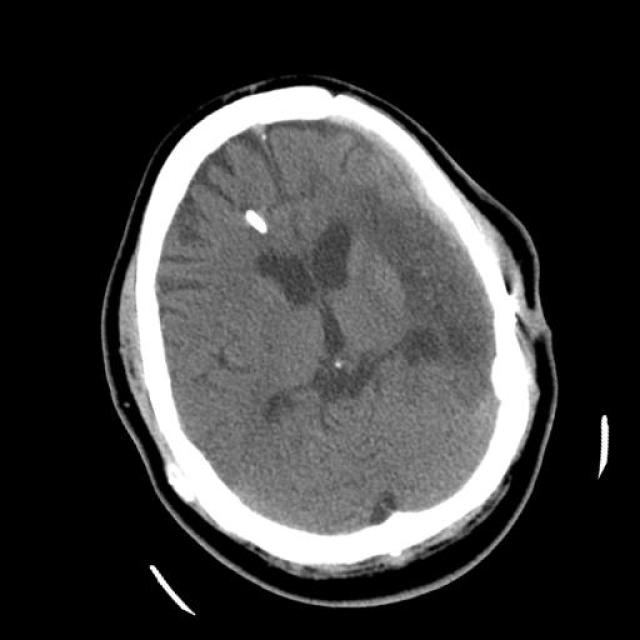Subdural: (300, 78, 472, 268)
